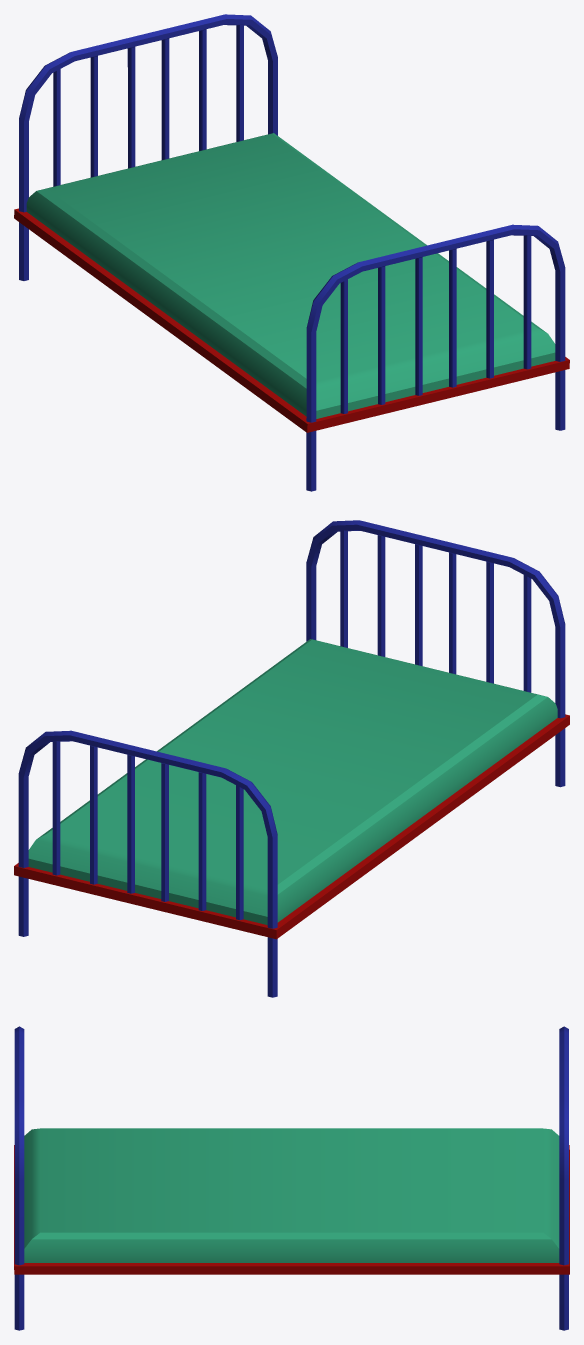
File: Bed.fbx
3 renders of one model, top to bottom at view 1: azimuth 30°, elevation 25°; view 2: azimuth 150°, elevation 25°; view 3: azimuth 270°, elevation 25°, orthographic. The views are drawn at different scales.
Parts seen in each view (by area): view 1: Bed; view 2: Bed; view 3: Bed.
Boxes of the visible parts, x1,y1,x2,y2 form: Bed: (14, 14, 569, 491); Bed: (14, 520, 569, 997); Bed: (14, 1026, 569, 1330).
Bounding box in the file's own units: 106 × 82.7 × 204.
